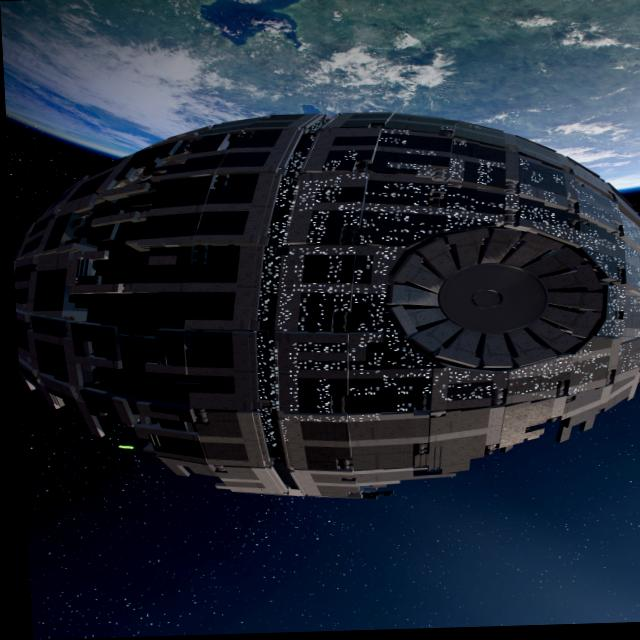deathStar: (9, 109, 640, 509)
